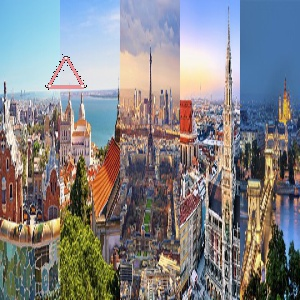triangle: (43, 53, 91, 95)
